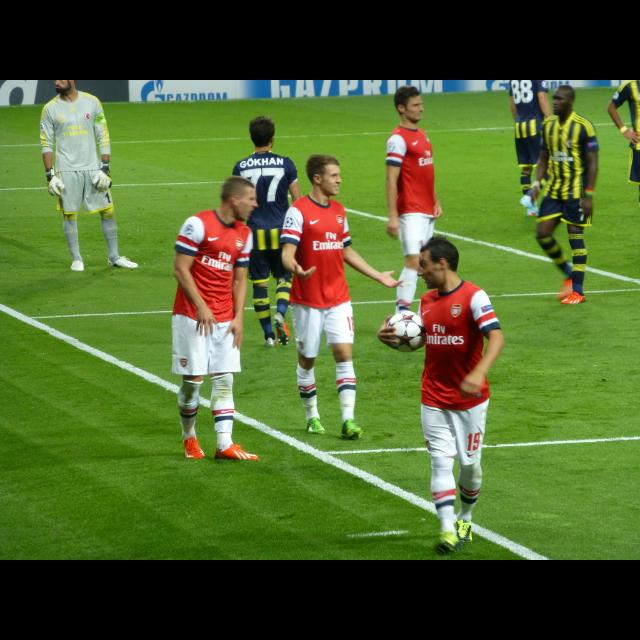Football: (384, 310, 426, 352)
